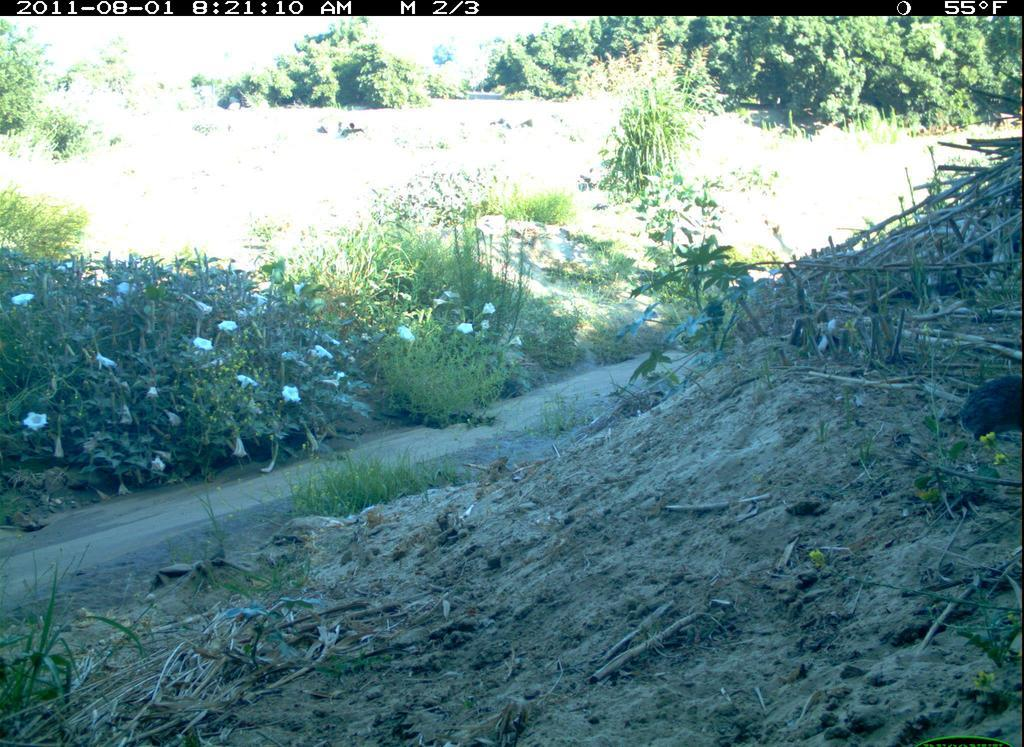rabbit: (954, 359, 1023, 456)
